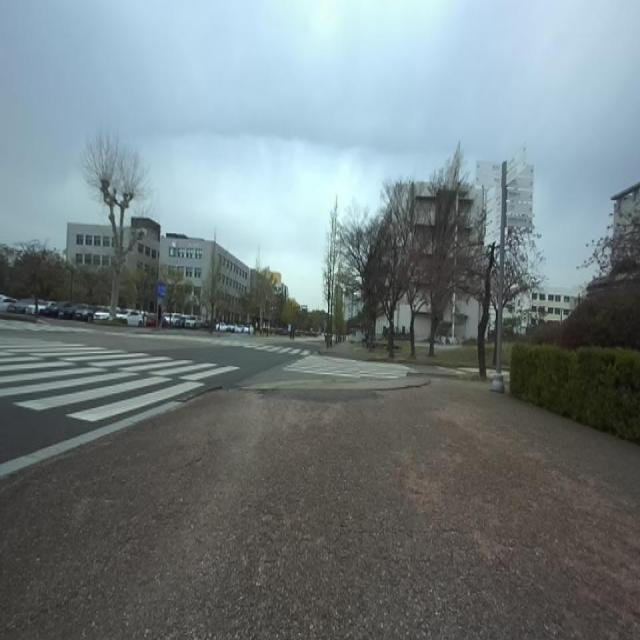sidewalk: (0, 378, 640, 639), (0, 400, 182, 477)
